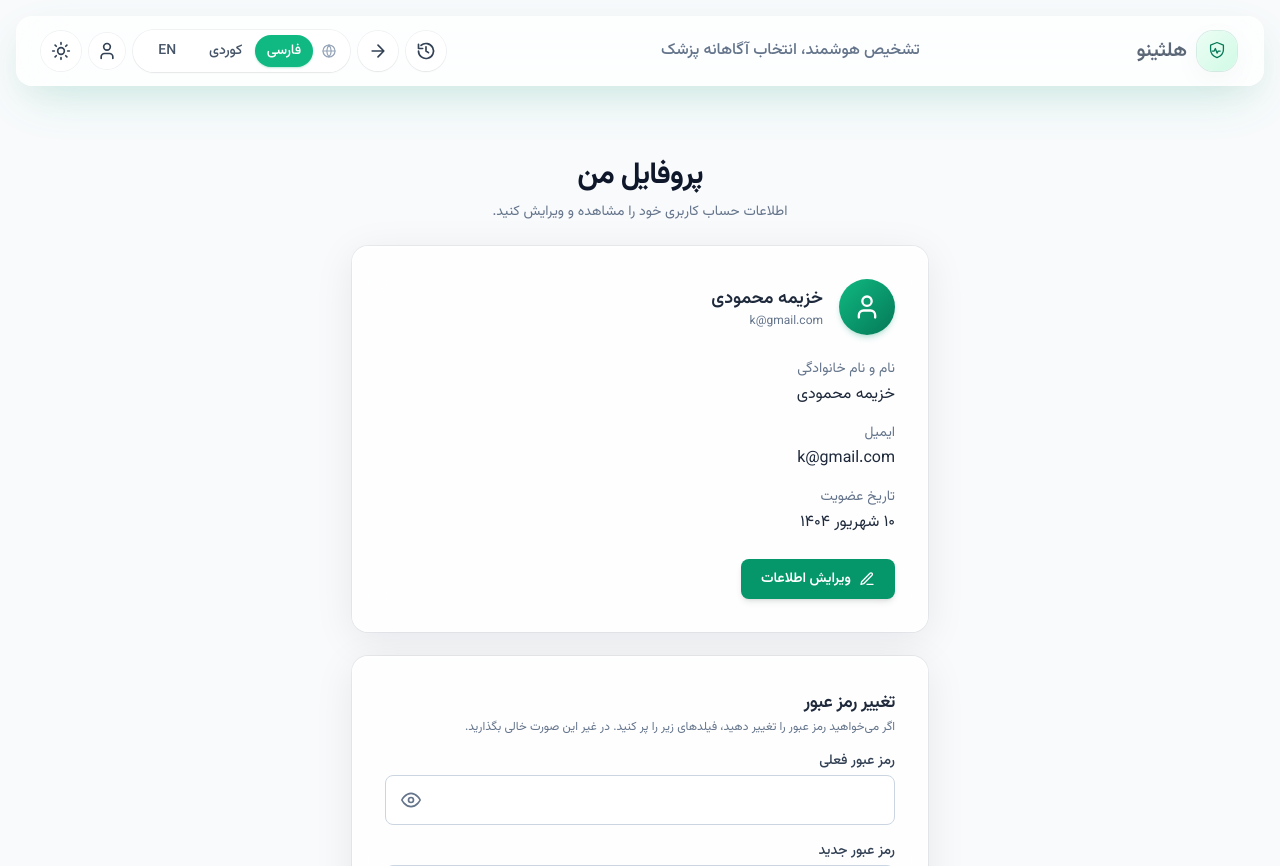
Scenario: UserProfile.vue › toggles between view and edit modes via the Edit and Cancel buttons
The image size is (1280, 866).
Expected: the element with test id "profile-view" is shown, [741,358,895,599]
Click the button with test id "profile-edit-button" at (818, 579), box [741,559,895,599]
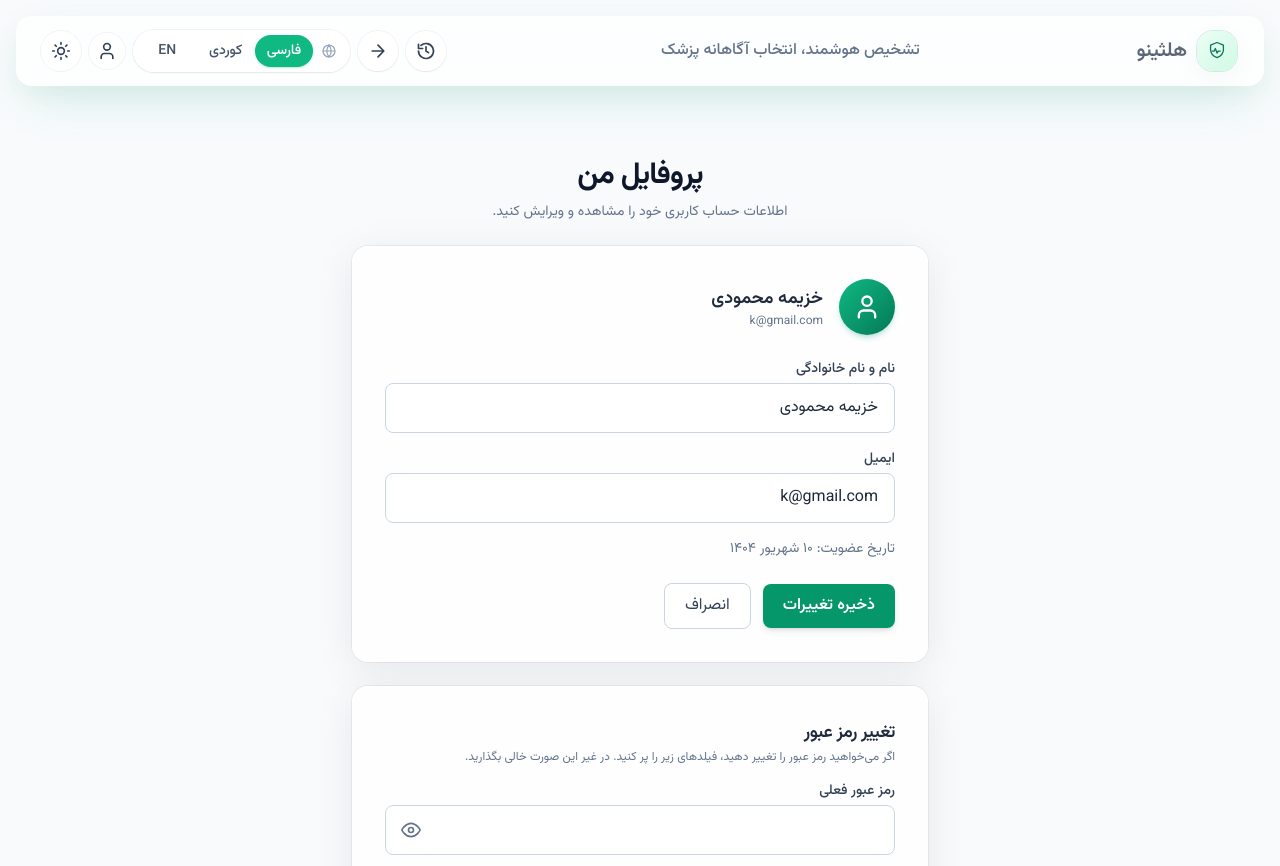
Expected: the form with test id "profile-edit-form" is shown, [385,359,895,629]
Expected: the field with test id "profile-name-input" holds "خزیمه محمودی"
Expected: the field with test id "profile-email-input" holds "k@gmail.com", [385,473,895,523]
Replace the text in the field with test id "profile-name-input" with "Edited Locally" at (640, 408), box [385,383,895,433]
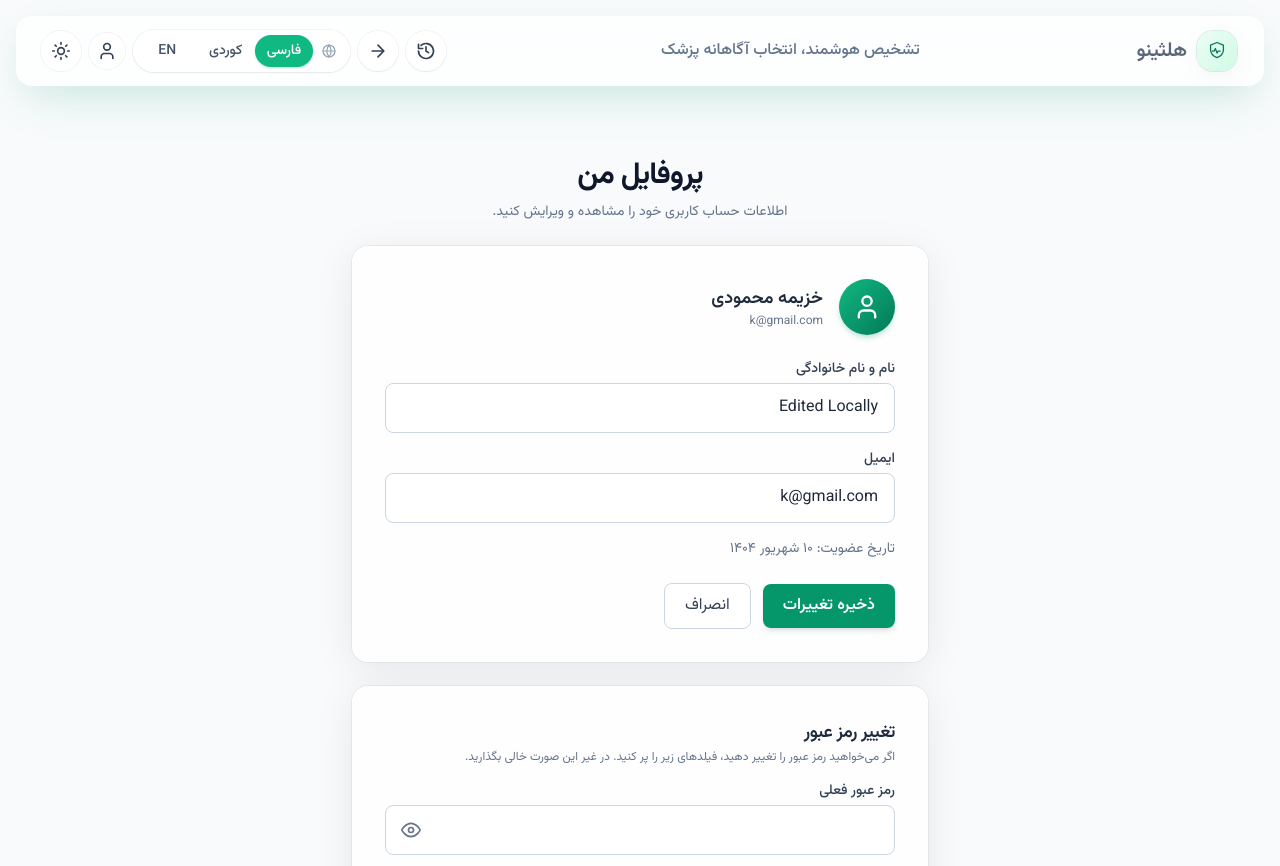
Click the button with test id "profile-cancel-button" at (707, 606), box [664,583,751,629]
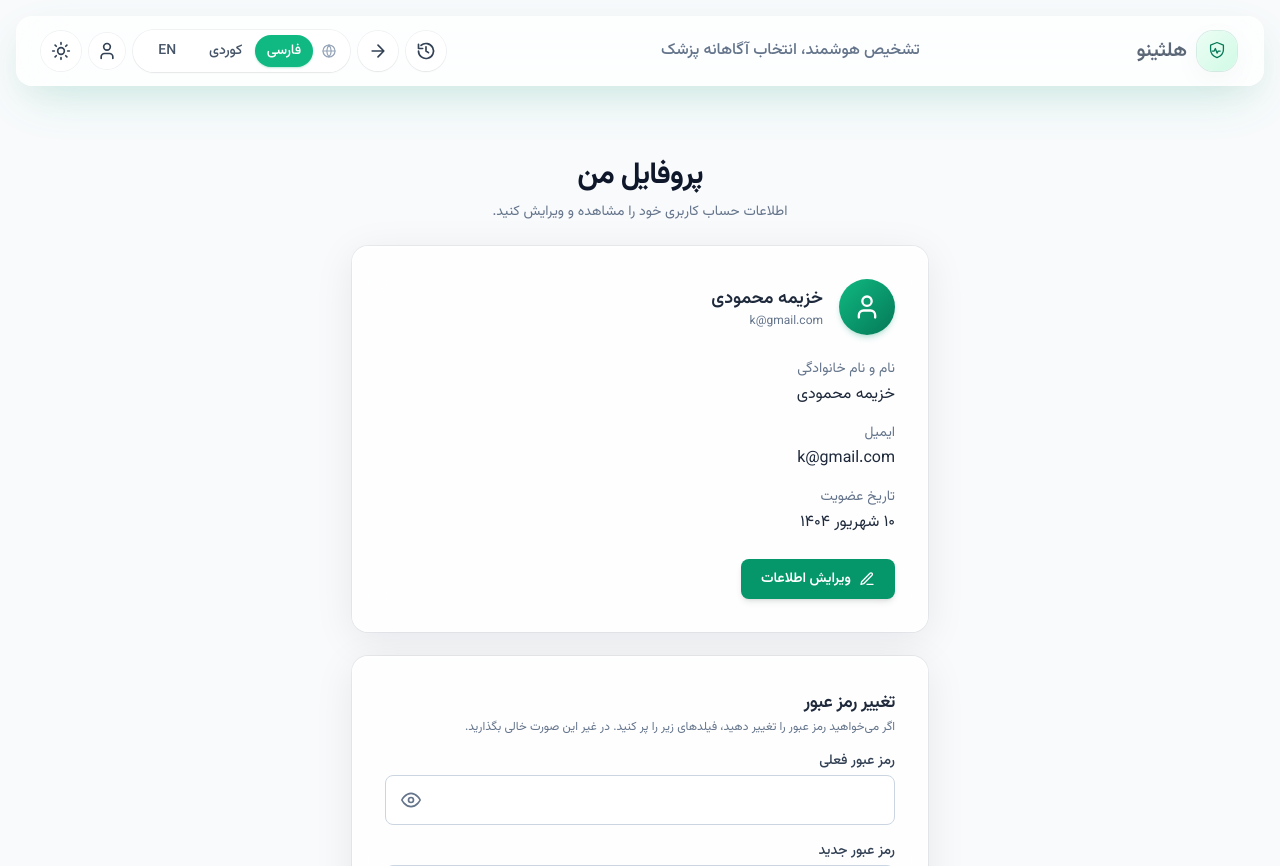
Expected: the text with test id "profile-name-text" reads "خزیمه محمودی", [797,382,895,407]
